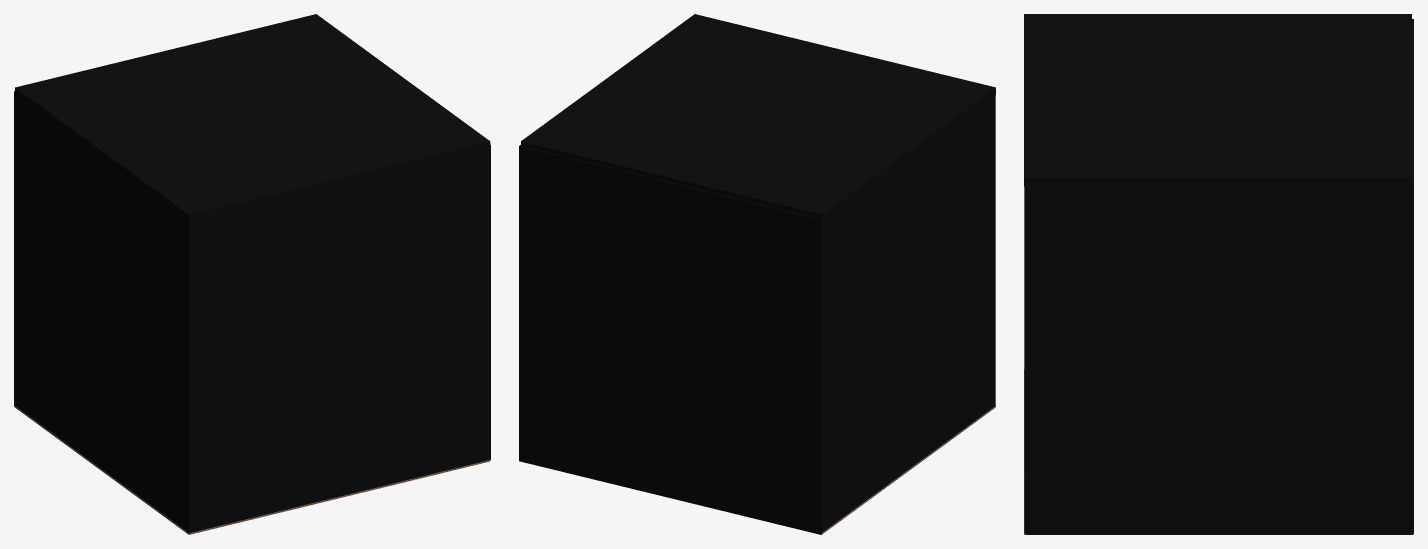
File: PlayerSpawn.fbx
The picture shows the model from 3 angles, left to right: view 1: azimuth 30°, elevation 25°; view 2: azimuth 150°, elevation 25°; view 3: azimuth 270°, elevation 25°; orthographic projection. The views are drawn at different scales.
Visible parts, largest first — view 1: Wall001, Ceiling, Wall002, Floor, Wall; view 2: Wall, Ceiling, Wall002, Wall001; view 3: Wall003, Ceiling, Wall001, Wall.
Part boxes in pixels (left/top/right/bottom): Wall001: left=188, top=149, right=490, bottom=533; Ceiling: left=15, top=14, right=490, bottom=222; Wall002: left=15, top=96, right=187, bottom=531; Floor: left=15, top=406, right=490, bottom=534; Wall: left=14, top=91, right=15, bottom=406; Wall: left=520, top=146, right=821, bottom=534; Ceiling: left=521, top=14, right=995, bottom=222; Wall002: left=821, top=96, right=994, bottom=532; Wall001: left=994, top=96, right=995, bottom=405; Wall003: left=1025, top=183, right=1413, bottom=534; Ceiling: left=1024, top=14, right=1411, bottom=186; Wall001: left=1024, top=183, right=1025, bottom=534; Wall: left=1412, top=19, right=1413, bottom=534.
Size of the model in its own units: 201 by 203 by 201.
3 materials, 1 textured.
